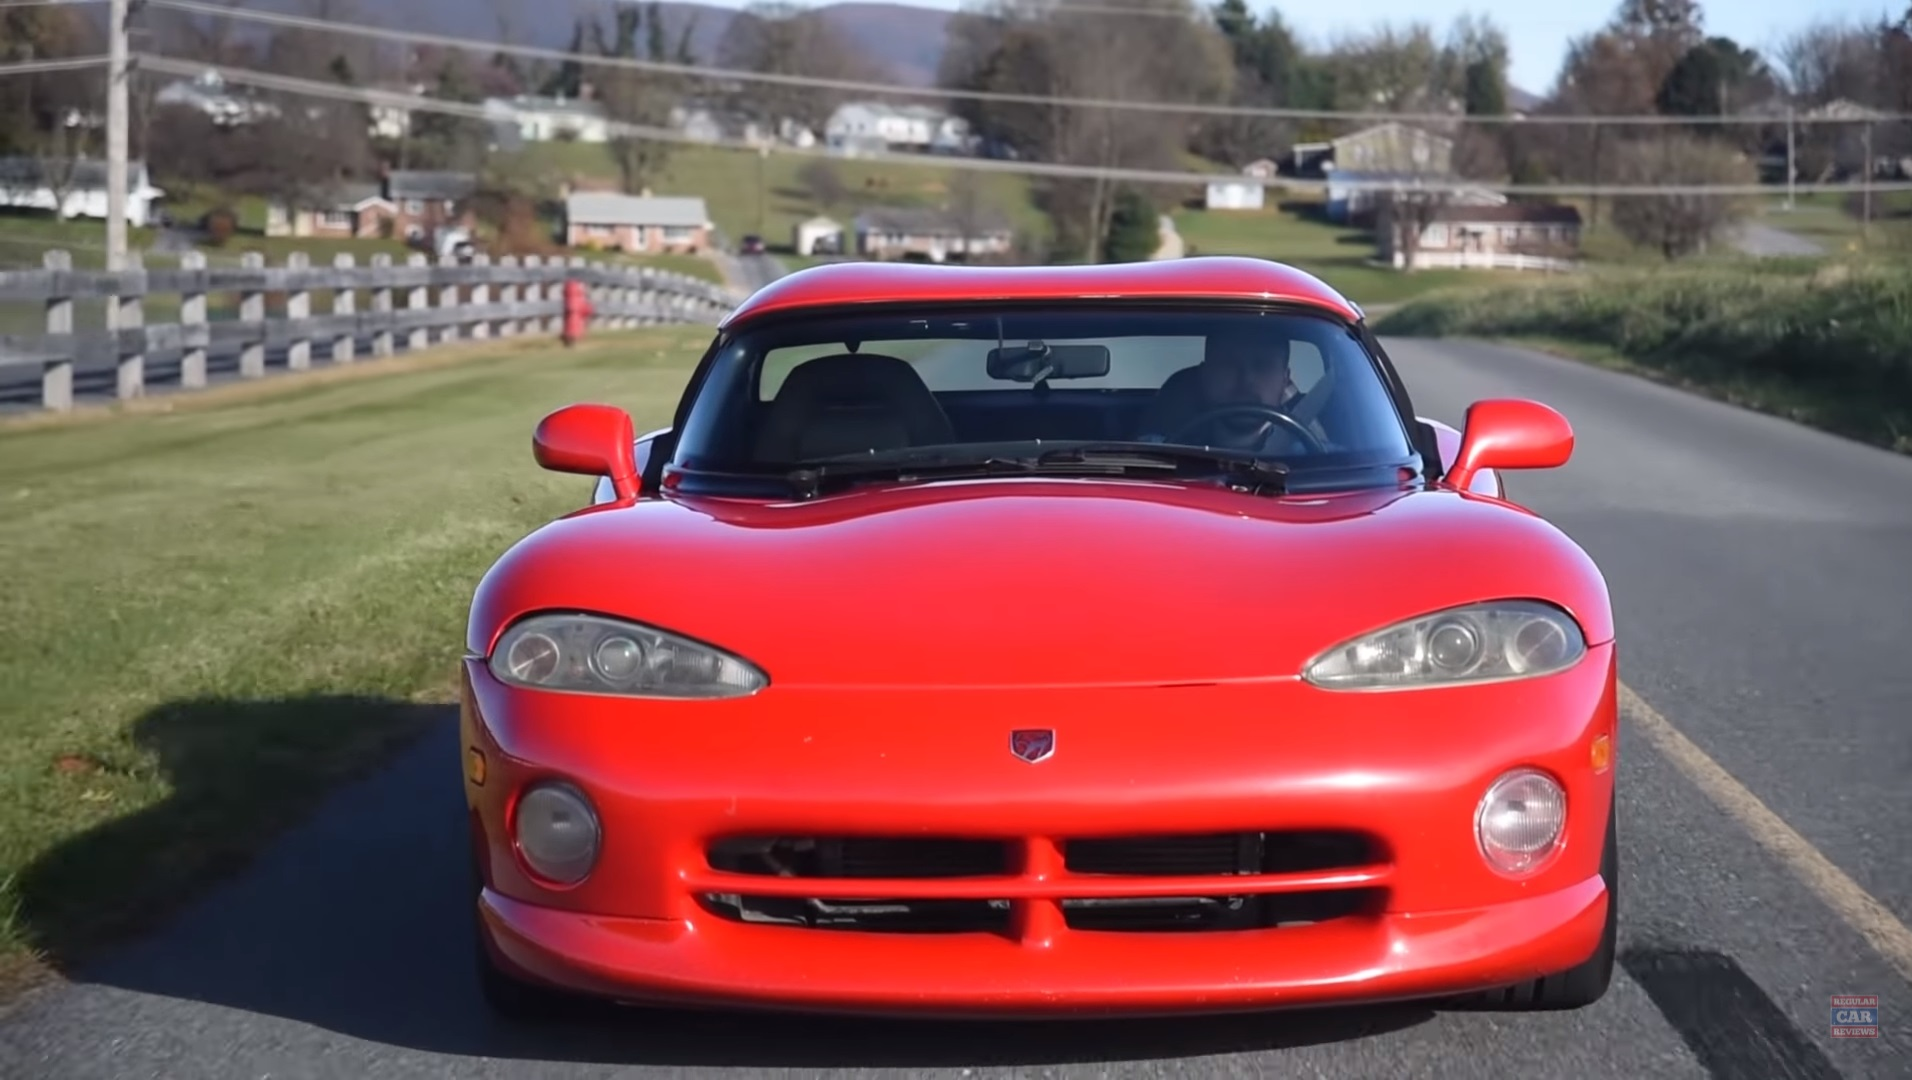car: (446, 248, 1628, 1030)
